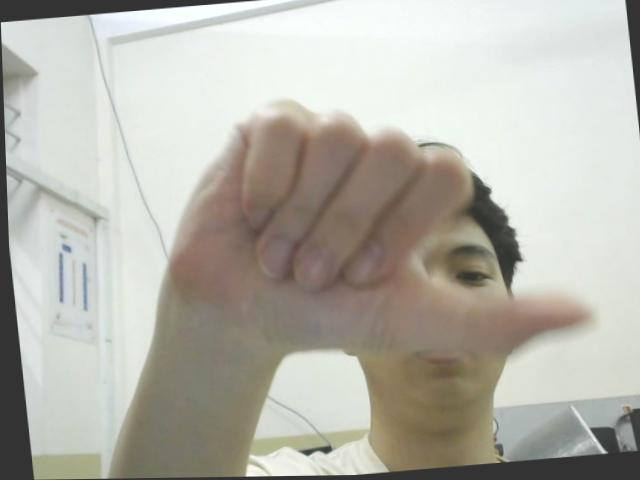A: (148, 75, 597, 369)
